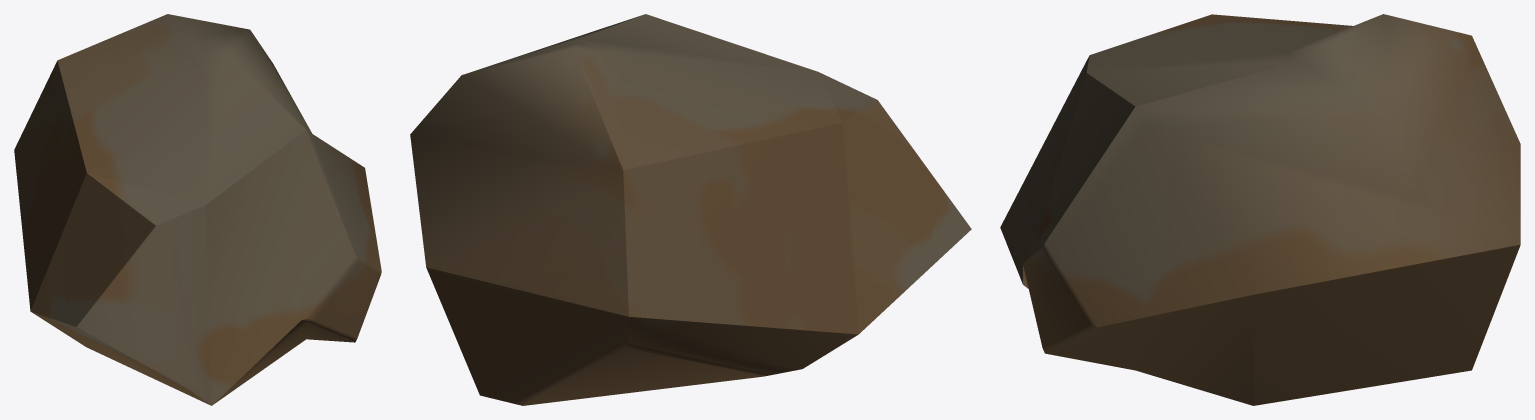
File: Rock06_Model.fbx
3 renders of one model, left to right at view 1: azimuth 30°, elevation 25°; view 2: azimuth 150°, elevation 25°; view 3: azimuth 270°, elevation 25°, orthographic. The views are drawn at different scales.
Visible parts, largest first — view 1: pSphere1; view 2: pSphere1; view 3: pSphere1.
Part boxes in pixels (box(x1,y1,x2,y2)): pSphere1: box(14, 14, 381, 405); pSphere1: box(410, 14, 971, 405); pSphere1: box(1000, 14, 1520, 405).
Bounding box in the file's own units: 0.9422 × 0.6738 × 0.9584.
